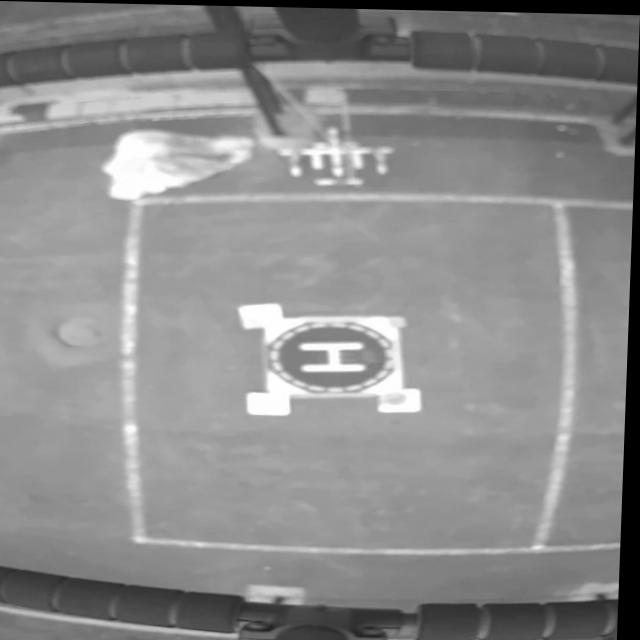Helipad: (301, 338, 369, 369)
